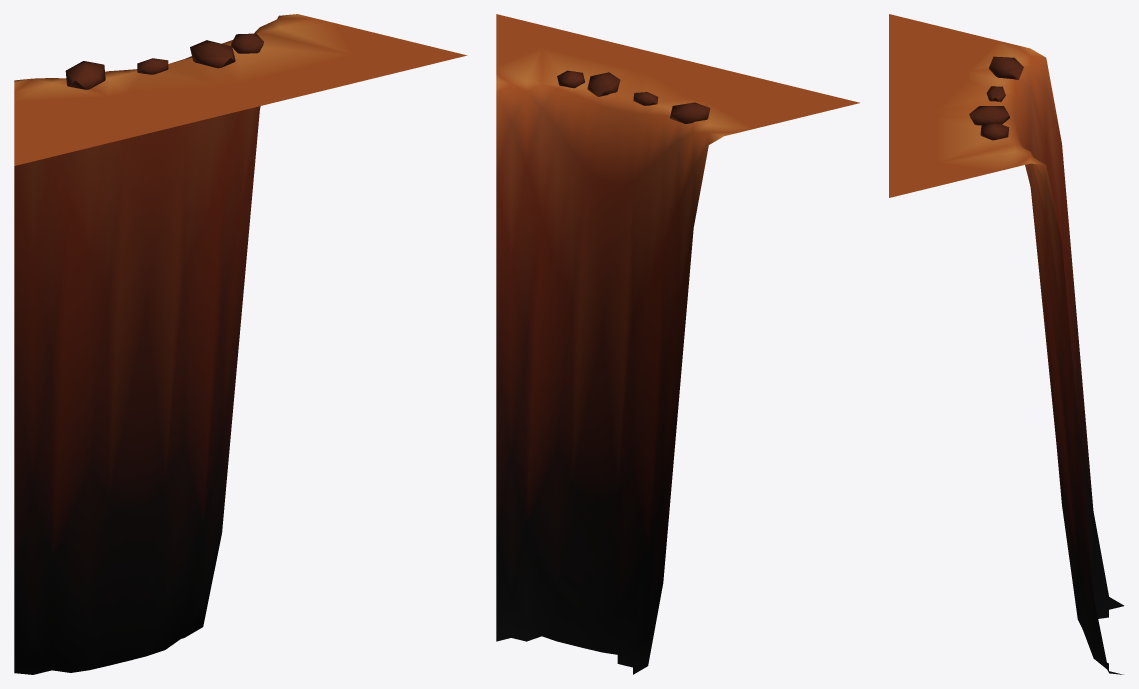
The model's file is MODULE_DESERT_SHORT_OUT.fbx.
3 views of the same model, side by side, from view 1: azimuth 30°, elevation 25°; view 2: azimuth 150°, elevation 25°; view 3: azimuth 270°, elevation 25° (orthographic). The views are drawn at different scales.
Visible parts, largest first — view 1: MODULE_DESERT_SHORT_OUT__export, MODULE_DESERT_SHORT_OUT_DECOR__export; view 2: MODULE_DESERT_SHORT_OUT__export, MODULE_DESERT_SHORT_OUT_DECOR__export; view 3: MODULE_DESERT_SHORT_OUT__export, MODULE_DESERT_SHORT_OUT_DECOR__export.
Part boxes in pixels (x1=…): MODULE_DESERT_SHORT_OUT__export: x1=14, y1=14, x2=467, y2=674; MODULE_DESERT_SHORT_OUT_DECOR__export: x1=65, y1=33, x2=263, y2=89; MODULE_DESERT_SHORT_OUT__export: x1=496, y1=14, x2=859, y2=674; MODULE_DESERT_SHORT_OUT_DECOR__export: x1=557, y1=70, x2=710, y2=123; MODULE_DESERT_SHORT_OUT__export: x1=889, y1=14, x2=1124, y2=674; MODULE_DESERT_SHORT_OUT_DECOR__export: x1=969, y1=56, x2=1023, y2=140.
Bounding box in the file's own units: 100 × 139 × 54.13.
